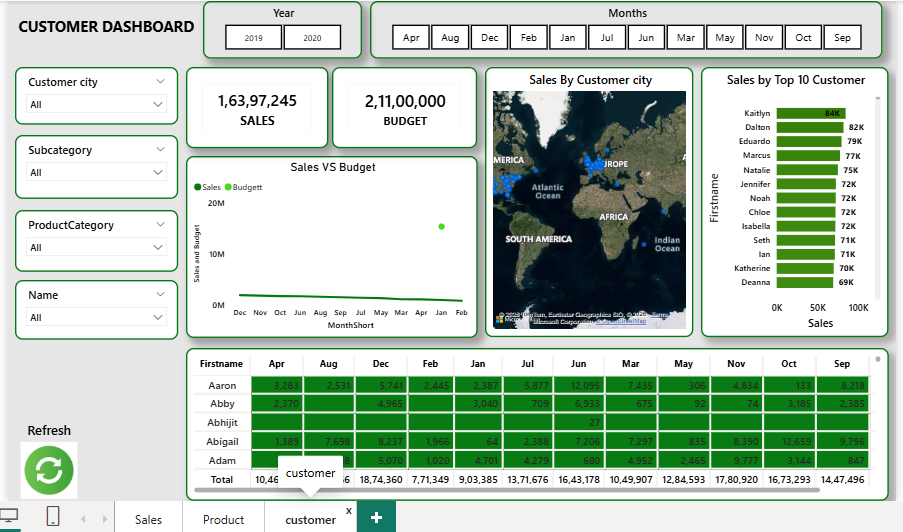

What the dashboard file says about the page in this screenshot:
{"tool":"powerbi","page":{"name":"customer","canvas":[1280,720],"ordinal":2},"visuals":[{"type":"textbox","box":[10.1,0,269.3,95],"z":0},{"type":"slicer","title":"Year","fields":{"Values":["DimDate.Year"]},"box":[280.3,0,228.8,83.3],"z":1000},{"type":"slicer","title":"Months","fields":{"Values":["DimDate.MonthShort"]},"box":[521.2,0,737.9,83.3],"z":2000},{"type":"lineChart","title":"Sales VS Budget","fields":{"Category":["DimDate.MonthShort"],"Y":["FactInternetSales.Sales","FactInternetSales.Budgett"]},"box":[256.1,222.7,419.7,262.1],"z":3000},{"type":"map","title":"Sales By Customer city","fields":{"Category":["DimCustomer.Customer city"]},"box":[686.4,95.5,300,389.4],"z":4000},{"type":"barChart","title":"Sales by Top 10 Customer","fields":{"Y":["FactInternetSales.Sales"],"Category":["DimCustomer.Firstname"]},"box":[998.5,95.5,269.7,389.4],"z":5000},{"type":"slicer","fields":{"Values":["DimCustomer.Customer city"]},"box":[10.6,95.5,234.8,83.3],"z":6000},{"type":"slicer","fields":{"Values":["DimProduct.ProductCategory"]},"box":[10.6,301.5,234.8,89.4],"z":7000},{"type":"slicer","fields":{"Values":["DimProduct.Subcategory"]},"box":[10.6,192.4,234.8,92.4],"z":8000},{"type":"slicer","fields":{"Values":["DimCustomer.Firstname"]},"box":[10.6,401.5,234.8,86.4],"z":9000},{"type":"cardVisual","fields":{"Data":["FactInternetSales.Sales"]},"box":[256.1,95.5,204.5,116.7],"z":10000},{"type":"cardVisual","fields":{"Data":["FactInternetSales.Budgett"]},"box":[466.7,95.5,209.1,116.7],"z":11000},{"type":"pivotTable","fields":{"Rows":["DimCustomer.Firstname"],"Columns":["DimDate.MonthShort"],"Values":["FactInternetSales.Sales"]},"box":[256.1,500,1012.1,219.7],"z":12000},{"type":"image","title":"Refresh","box":[10.6,604.5,98.5,112.1],"z":12001}]}

Visuals, with their boxes in screenshot pixels (x1, y1, x2, y2):
textbox: Rect(12, 0, 199, 64)
"Year" slicer: Rect(200, 0, 359, 56)
"Months" slicer: Rect(367, 0, 881, 56)
"Sales VS Budget" lineChart: Rect(183, 153, 475, 335)
"Sales By Customer city" map: Rect(482, 64, 691, 335)
"Sales by Top 10 Customer" barChart: Rect(699, 64, 887, 335)
slicer - DimCustomer.Customer city: Rect(12, 64, 175, 122)
slicer - DimProduct.ProductCategory: Rect(12, 207, 175, 270)
slicer - DimProduct.Subcategory: Rect(12, 132, 175, 196)
slicer - DimCustomer.Firstname: Rect(12, 277, 175, 337)
cardVisual - FactInternetSales.Sales: Rect(183, 64, 325, 145)
cardVisual - FactInternetSales.Budgett: Rect(329, 64, 475, 145)
pivotTable - DimCustomer.Firstname x DimDate.MonthShort: Rect(183, 346, 887, 498)
"Refresh" image: Rect(12, 418, 81, 496)
